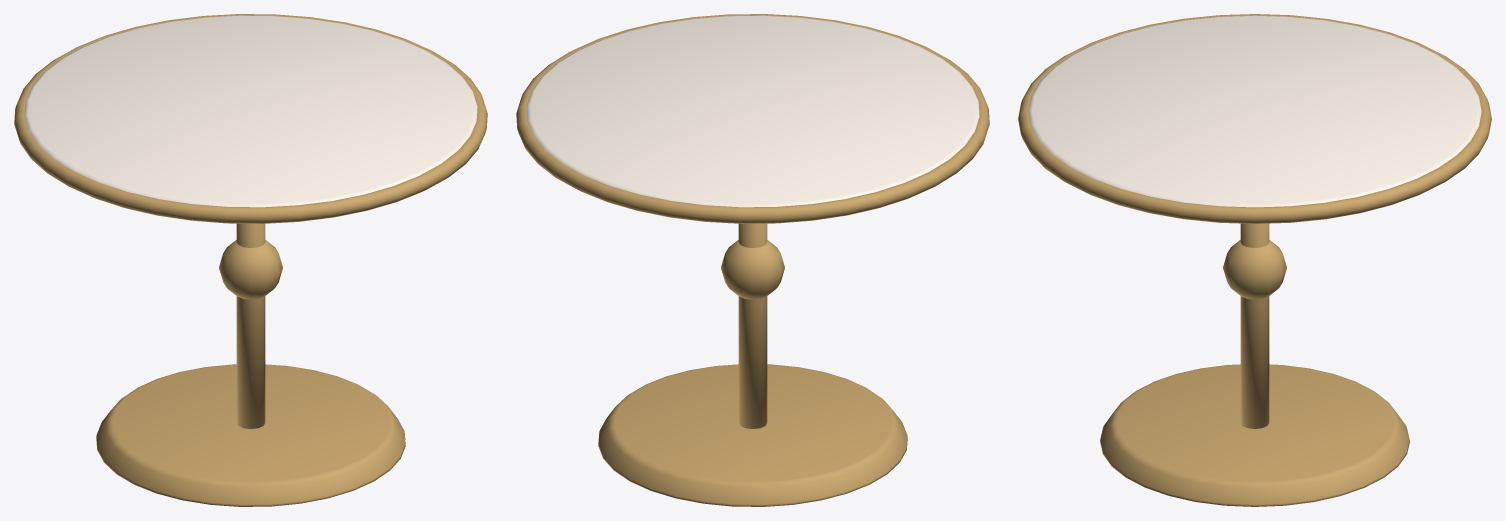
Rendered from furn_goldtable.glb.
The picture shows the model from 3 angles, left to right: view 1: azimuth 30°, elevation 25°; view 2: azimuth 150°, elevation 25°; view 3: azimuth 270°, elevation 25°; orthographic projection.
Parts seen in each view (by area): view 1: Cone; view 2: Cone; view 3: Cone.
Boxes of the visible parts, x1,y1,x2,y2 form: Cone: [14, 14, 487, 506]; Cone: [516, 14, 989, 506]; Cone: [1018, 14, 1491, 506].
Bounding box in the file's own units: 0.664 × 0.514 × 0.664.
